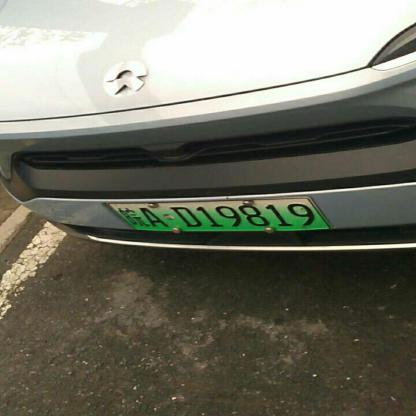lp: (107, 197, 333, 230)
